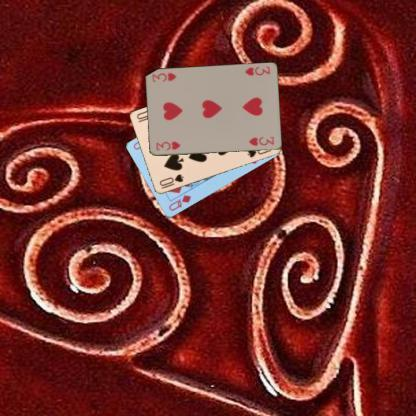10s: (156, 172, 185, 190)
3h: (153, 138, 182, 152), (242, 64, 271, 78)
Qd: (166, 192, 192, 212)
